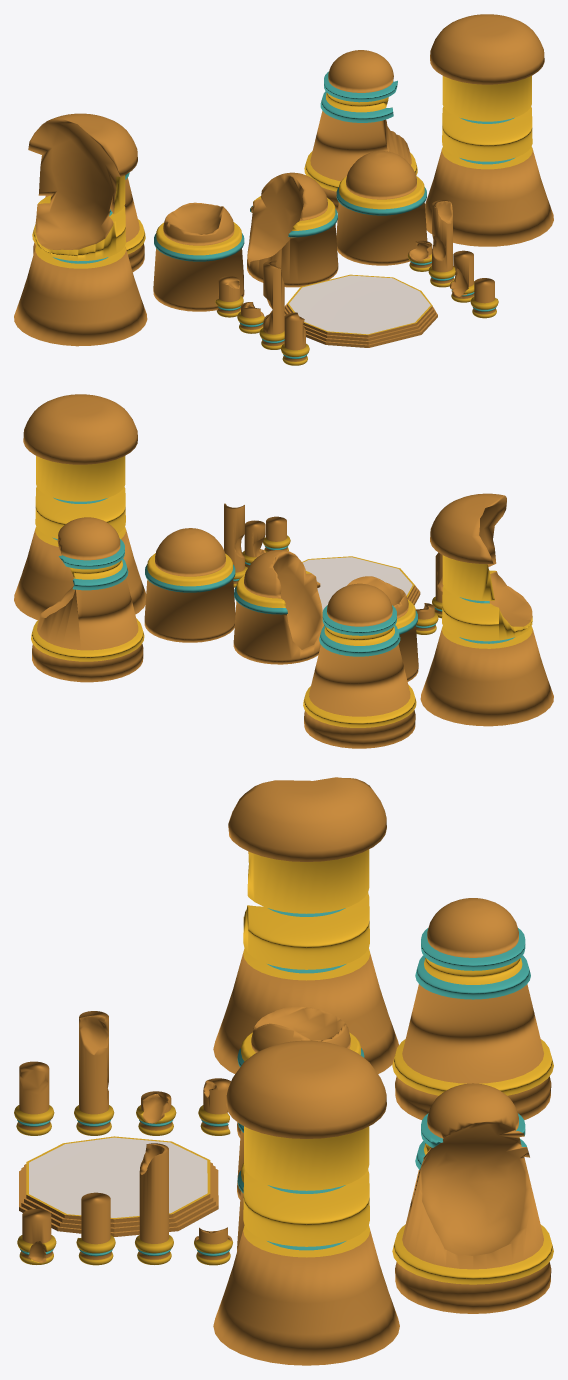
The model's file is CidadeDesertoComTextura.fbx.
The picture shows the model from 3 angles, top to bottom: view 1: azimuth 30°, elevation 25°; view 2: azimuth 150°, elevation 25°; view 3: azimuth 270°, elevation 25°; orthographic projection. The views are drawn at different scales.
Visible parts, largest first — view 1: Cylinder.005, Cylinder.004, Cylinder.003, Cylinder, Cylinder.001, Cube, Cylinder.002, Pilastra1.005, Pilastra1.002, Cylinder.006, Pilastra1.003, Pilastra1.004 (+4 smaller); view 2: Cylinder.005, Cylinder.004, Cylinder.006, Cylinder.003, Cylinder, Cylinder.001, Cube, Cylinder.002, Pilastra1.005, Pilastra1.004, Pilastra1.007, Pilastra1.001 (+1 smaller); view 3: Cylinder.004, Cylinder.005, Cylinder.003, Cylinder.006, Cube, Pilastra1.002, Cylinder.002, Pilastra1.005, Pilastra1.003, Pilastra1.004, Pilastra1.007, Pilastra1 (+2 smaller).
Part boxes in pixels (box(x1,y1,x2,y2)): Cylinder.005: box(14, 113, 147, 346); Cylinder.004: box(425, 14, 553, 246); Cylinder.003: box(304, 50, 417, 212); Cylinder: box(336, 151, 427, 265); Cylinder.001: box(247, 172, 338, 287); Cube: box(284, 274, 437, 347); Cylinder.002: box(153, 202, 244, 311); Pilastra1.005: box(428, 200, 455, 287); Pilastra1.002: box(259, 260, 284, 349); Cylinder.006: box(32, 172, 145, 271); Pilastra1.003: box(281, 312, 309, 365); Pilastra1.004: box(449, 250, 474, 302); Cylinder.005: box(420, 493, 553, 726); Cylinder.004: box(14, 394, 146, 620); Cylinder.006: box(303, 583, 416, 748); Cylinder.003: box(31, 517, 144, 682); Cylinder: box(144, 528, 235, 642); Cylinder.001: box(233, 550, 323, 664); Cube: box(302, 556, 420, 625); Cylinder.002: box(347, 576, 418, 681); Pilastra1.005: box(224, 503, 247, 587); Pilastra1.004: box(242, 520, 265, 568); Pilastra1.007: box(263, 516, 290, 552); Pilastra1.001: box(415, 603, 438, 634); Cylinder.004: box(213, 1040, 399, 1365); Cylinder.005: box(213, 777, 398, 1073); Cylinder.003: box(392, 1083, 553, 1313); Cylinder.006: box(392, 898, 553, 1119); Cube: box(19, 1136, 218, 1236); Pilastra1.002: box(74, 1011, 114, 1135); Cylinder.002: box(237, 1006, 364, 1137); Pilastra1.005: box(135, 1143, 173, 1264); Pilastra1.003: box(14, 1061, 54, 1135); Pilastra1.004: box(76, 1192, 115, 1265); Pilastra1.007: box(17, 1209, 56, 1264); Pilastra1: box(198, 1078, 230, 1135).
Bounding box in the file's own units: 6060 × 2145 × 3883.
Materials: 1 (1 with a texture image).
